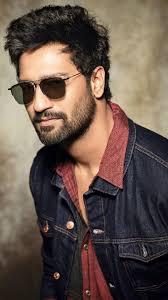b.y: (35, 113, 74, 147)
